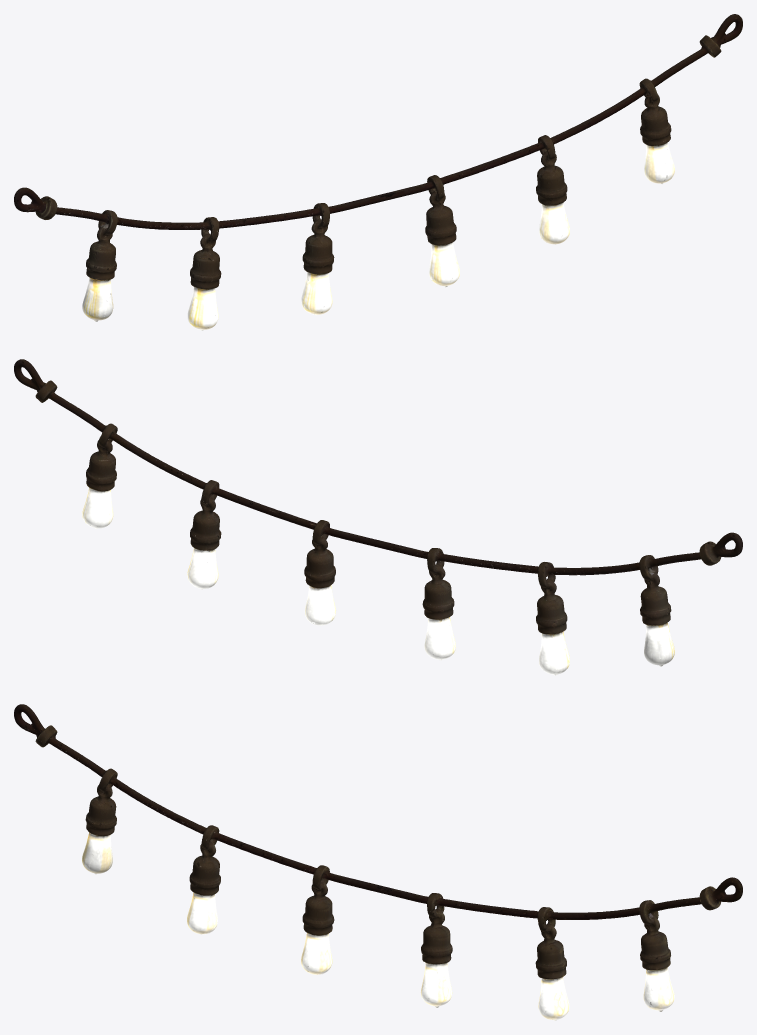
The model's file is Meshy_AI_Edison_Bulb_String_Li_0510002321_texture.fbx.
3 views of the same model, one above another, from view 1: azimuth 30°, elevation 25°; view 2: azimuth 150°, elevation 25°; view 3: azimuth 330°, elevation 25° (orthographic).
Parts seen in each view (by area): view 1: Mesh_0; view 2: Mesh_0; view 3: Mesh_0.
Boxes of the visible parts, bbox=[...] form: Mesh_0: bbox=[14, 14, 742, 330]; Mesh_0: bbox=[14, 359, 742, 675]; Mesh_0: bbox=[14, 704, 742, 1020].
Size of the model in its own units: 191 by 49.82 by 8.97.
Materials: 1 (1 with a texture image).
